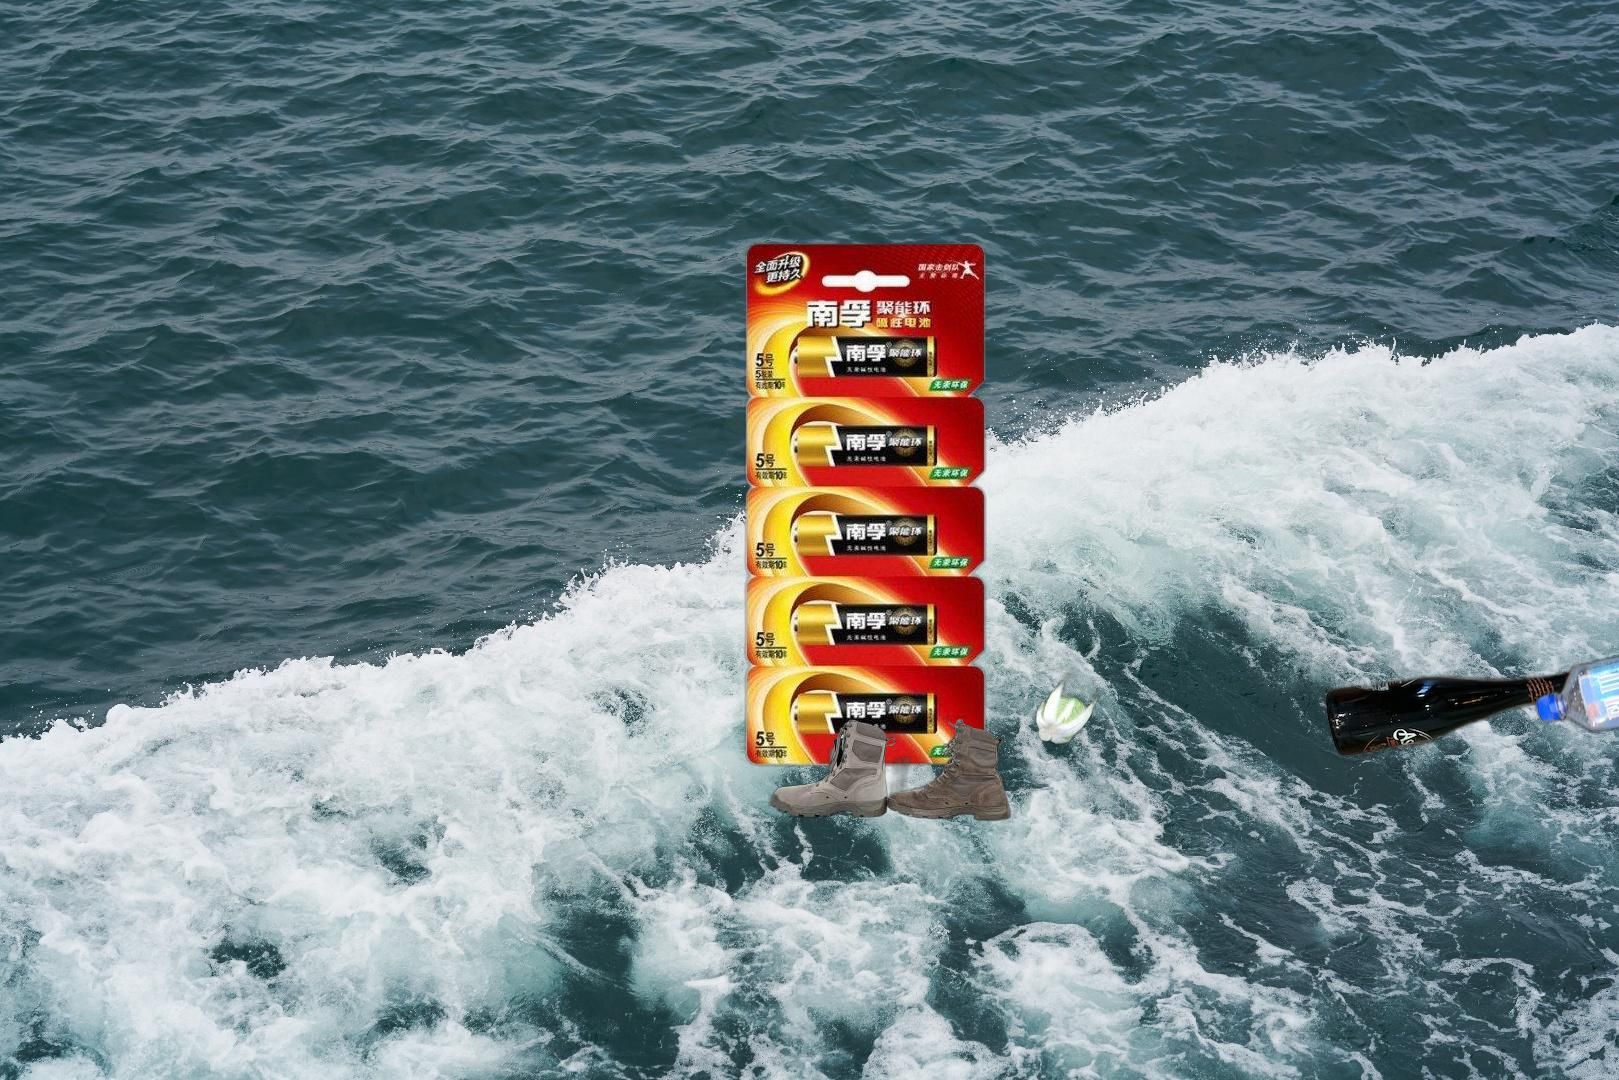battery: (740, 237, 991, 771)
biological: (934, 595, 1131, 762)
glass: (1321, 664, 1589, 763)
plastic-bottles: (1531, 620, 1619, 736)
shoes: (767, 714, 1014, 823)
